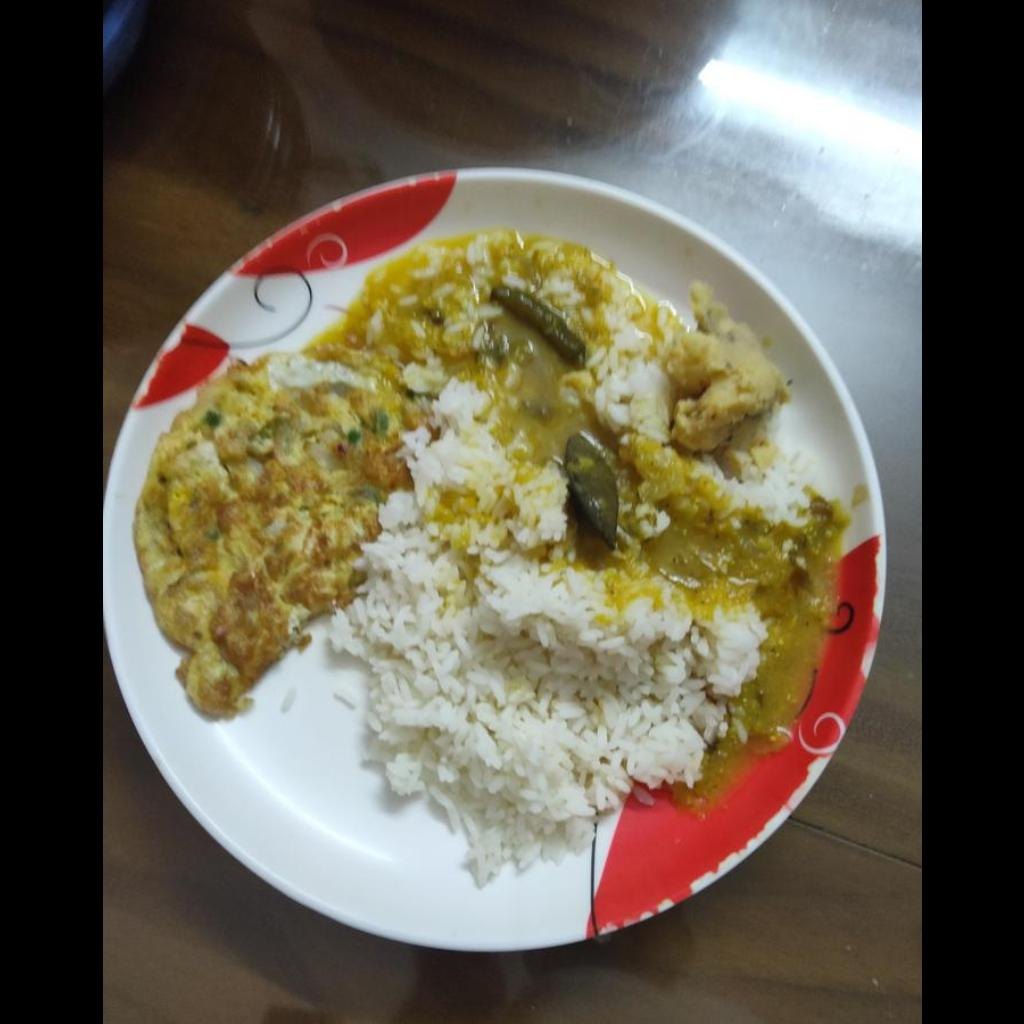egg-poached: (132, 347, 404, 712)
potato-mashed: (667, 283, 786, 452)
rice: (315, 229, 837, 883)
